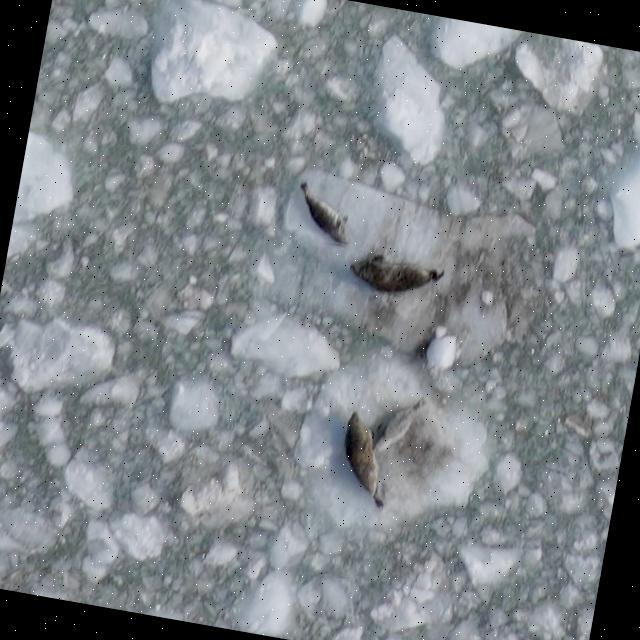seal: (346, 248, 448, 307), (334, 407, 388, 516), (286, 179, 362, 250), (360, 395, 436, 456)
